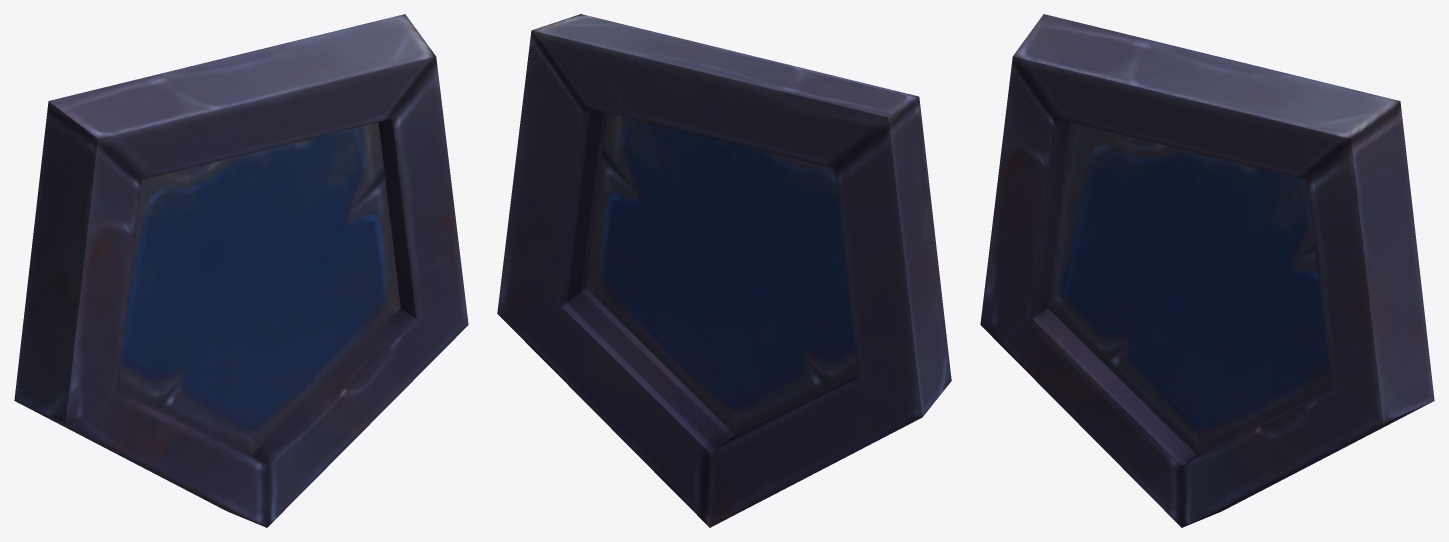
The model's file is armor_blue_03.fbx.
3 views of the same model, side by side, from view 1: azimuth 30°, elevation 25°; view 2: azimuth 150°, elevation 25°; view 3: azimuth 330°, elevation 25° (orthographic).
Parts seen in each view (by area): view 1: armor_blue_03; view 2: armor_blue_03; view 3: armor_blue_03.
Part boxes in pixels (x1=…): armor_blue_03: x1=14, y1=14, x2=468, y2=527; armor_blue_03: x1=497, y1=14, x2=951, y2=527; armor_blue_03: x1=980, y1=14, x2=1434, y2=527.
Bounding box in the file's own units: 0.6586 × 0.672 × 0.108.
